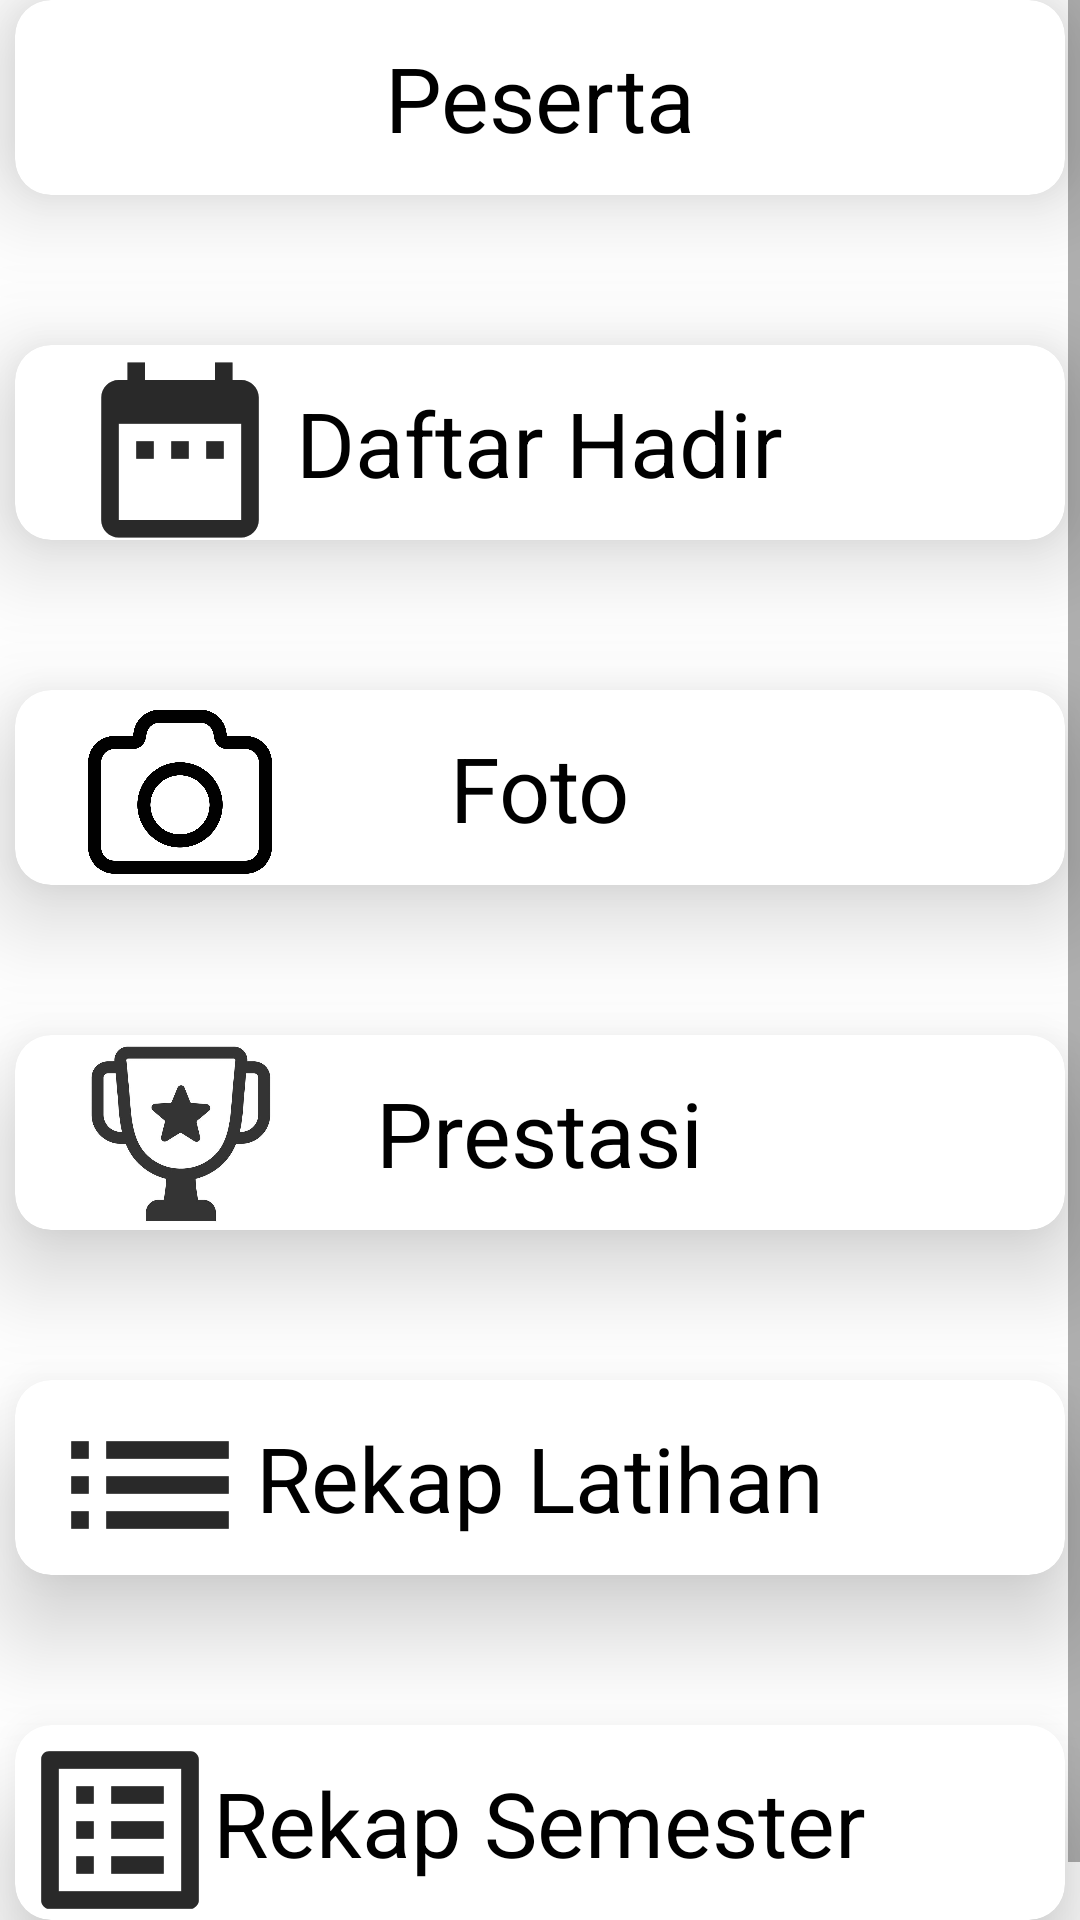

Named icons in this screenshot (1080 x 1920) and their bounding boxes, {"left": x1, "top": y1, "right": x2, "bottom": y2}:
foto: {"left": 88, "top": 710, "right": 272, "bottom": 874}
